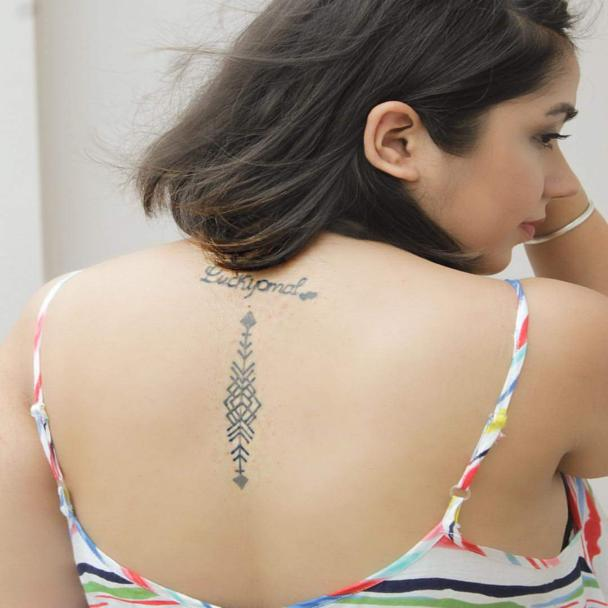tattoos: (221, 307, 262, 491), (197, 260, 319, 302)
